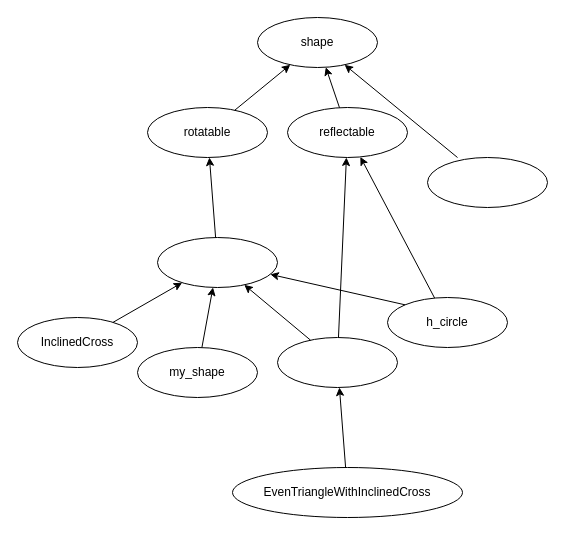
Image size: 565x535. Some labels were removed from this diagram. The shapes that lost their labels are listed below. From the top down, each one's centre as x and y in pixels, then its label:
At [487,182]: "line".
At [217,262]: "rectangle".
At [337,362]: "EvenTriangle".
